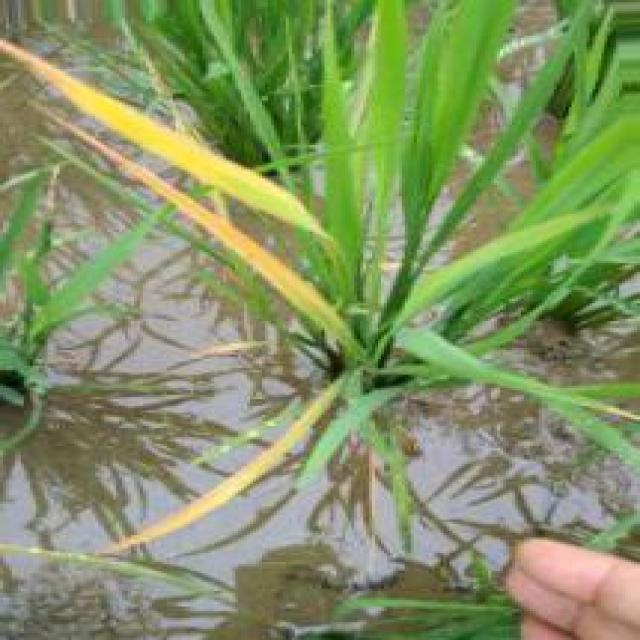Rice Tungro: (51, 113, 350, 341), (2, 42, 325, 238), (98, 380, 340, 554)
